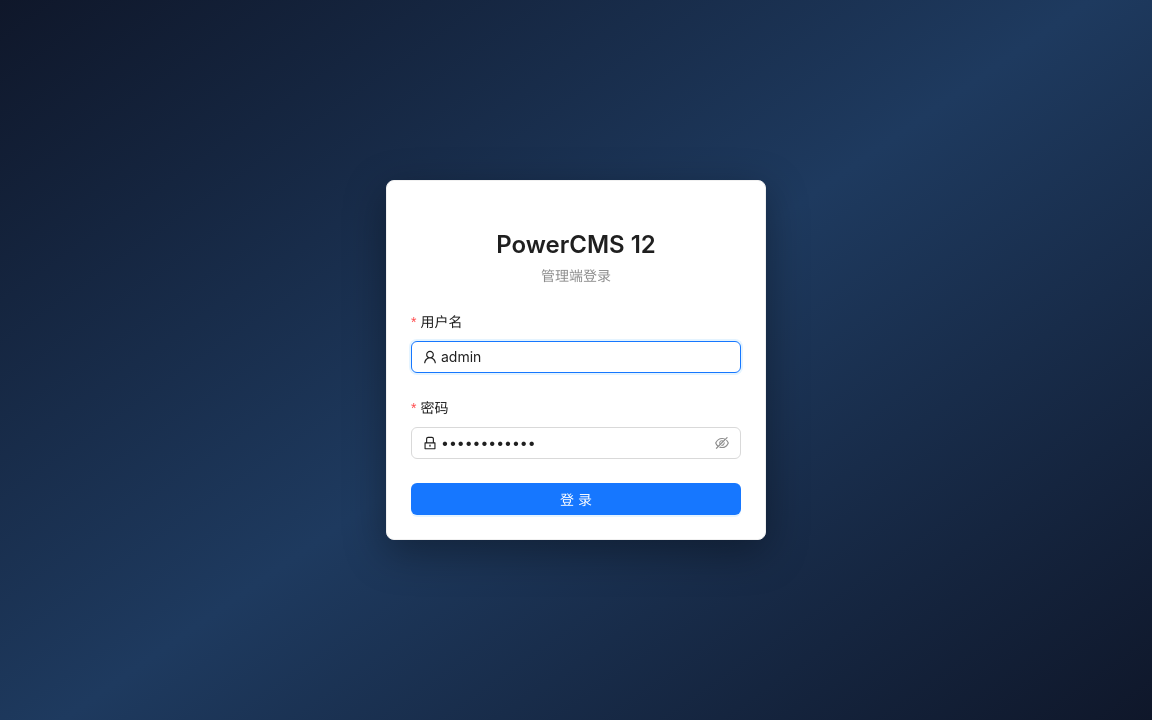
Test case: LoginPage · 登录失败展示后端文案（FR-IAM-002） › 账号被锁定时展示后端锁定文案
Expected: the field labelled "用户名" is shown, [441,346,729,368]
Click the button "登 录" at (576, 499), box [411,483,741,515]
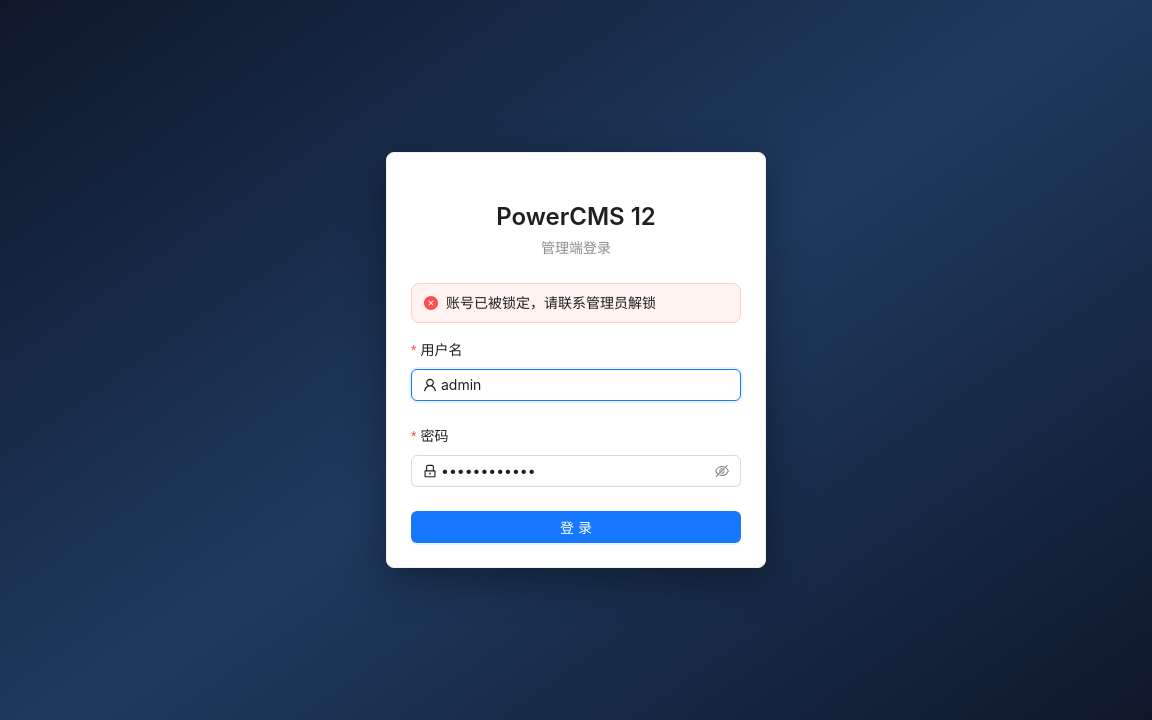
Now the text "账号已被锁定，请联系管理员解锁" is shown, box [446,294,656,311]
